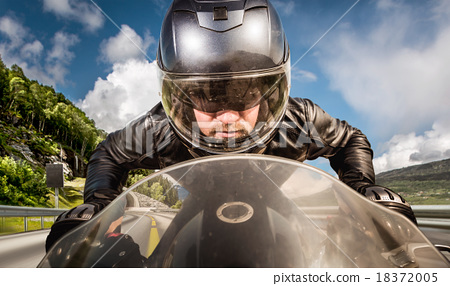helmet: (156, 1, 297, 152)
